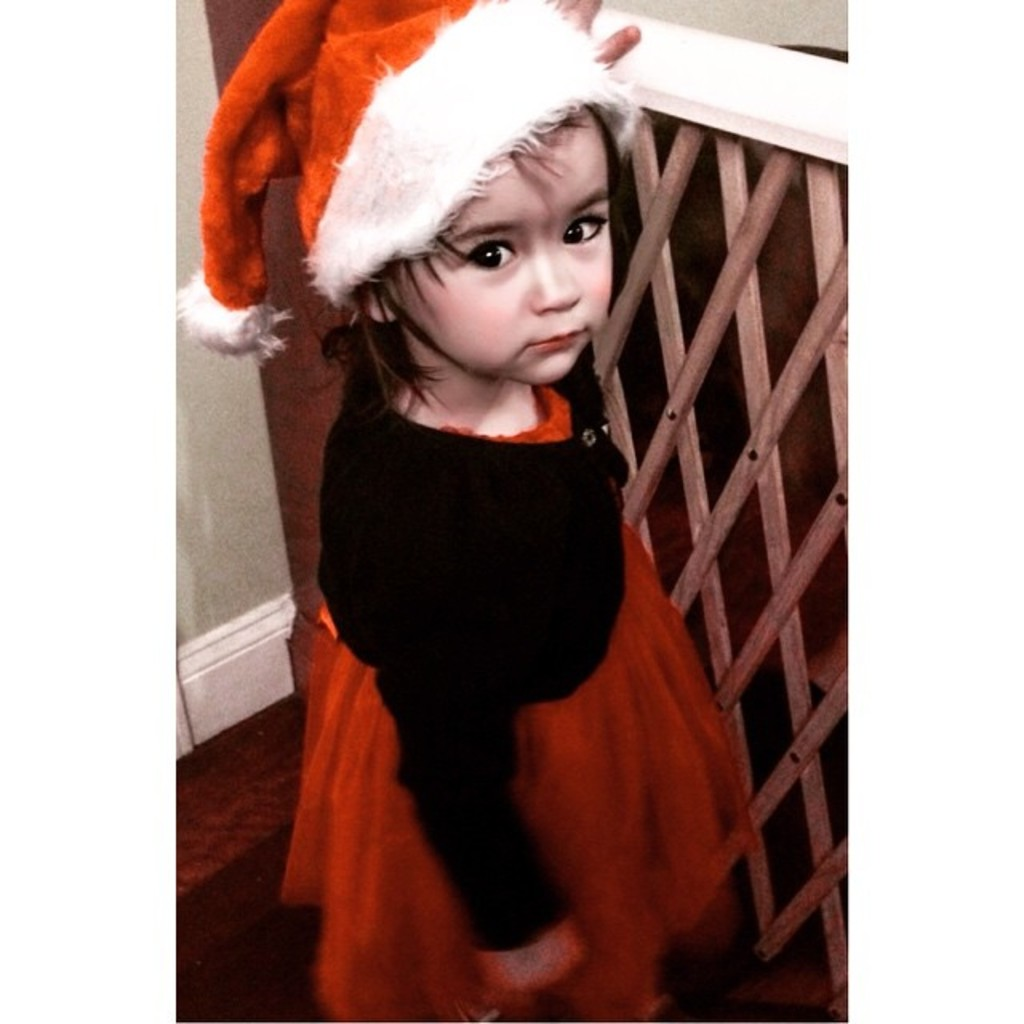Human-face: (389, 107, 614, 381)
